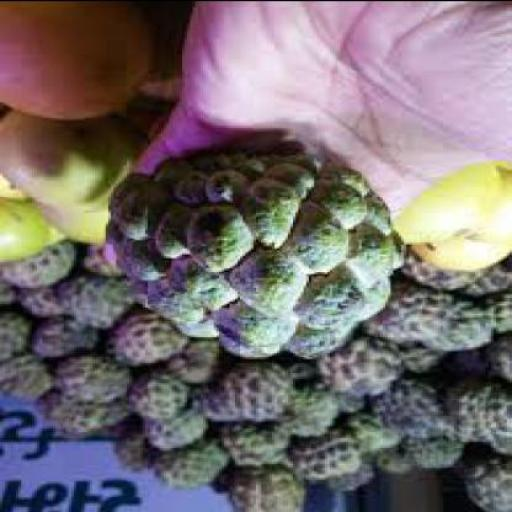biodegradable: (106, 152, 401, 366), (0, 2, 150, 120), (3, 105, 135, 209), (393, 164, 509, 275), (34, 184, 108, 253), (406, 293, 486, 352), (206, 368, 285, 422), (153, 435, 227, 491), (48, 354, 127, 405), (35, 392, 118, 440), (320, 342, 398, 392), (364, 282, 425, 344), (441, 375, 496, 443), (58, 276, 129, 328), (108, 315, 180, 366), (126, 369, 193, 421), (380, 380, 436, 441), (32, 312, 100, 360), (229, 468, 303, 510), (0, 200, 48, 264), (290, 434, 354, 482), (216, 423, 285, 467), (142, 405, 204, 453), (456, 459, 510, 510), (2, 244, 60, 290), (290, 384, 335, 438), (340, 417, 398, 457), (388, 437, 459, 469), (0, 354, 48, 399), (412, 254, 470, 290), (167, 342, 216, 382), (482, 388, 510, 456), (18, 278, 63, 320), (0, 308, 32, 362), (116, 417, 145, 473), (79, 242, 119, 277), (330, 462, 369, 497), (482, 336, 510, 384), (478, 290, 510, 332), (396, 348, 438, 374), (0, 267, 16, 307)
